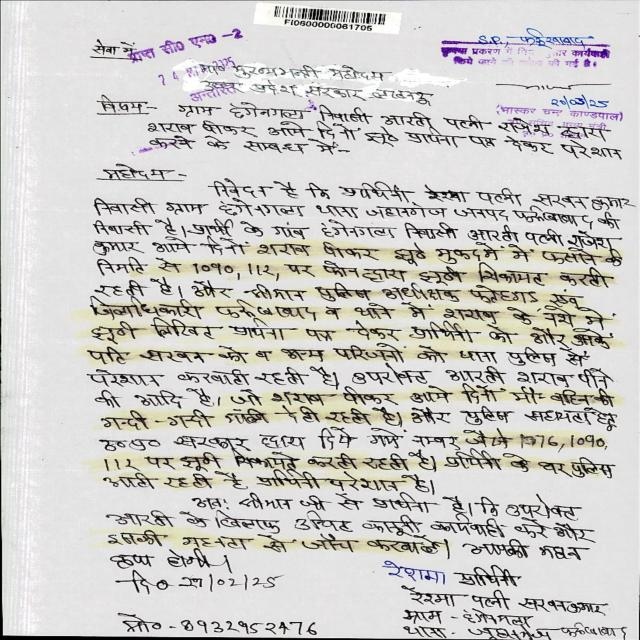antritgovtstamp: (122, 27, 259, 102)
barcode: (249, 2, 405, 38)
pinkstamp: (432, 31, 616, 73)
signnamestamp: (480, 75, 630, 130)
